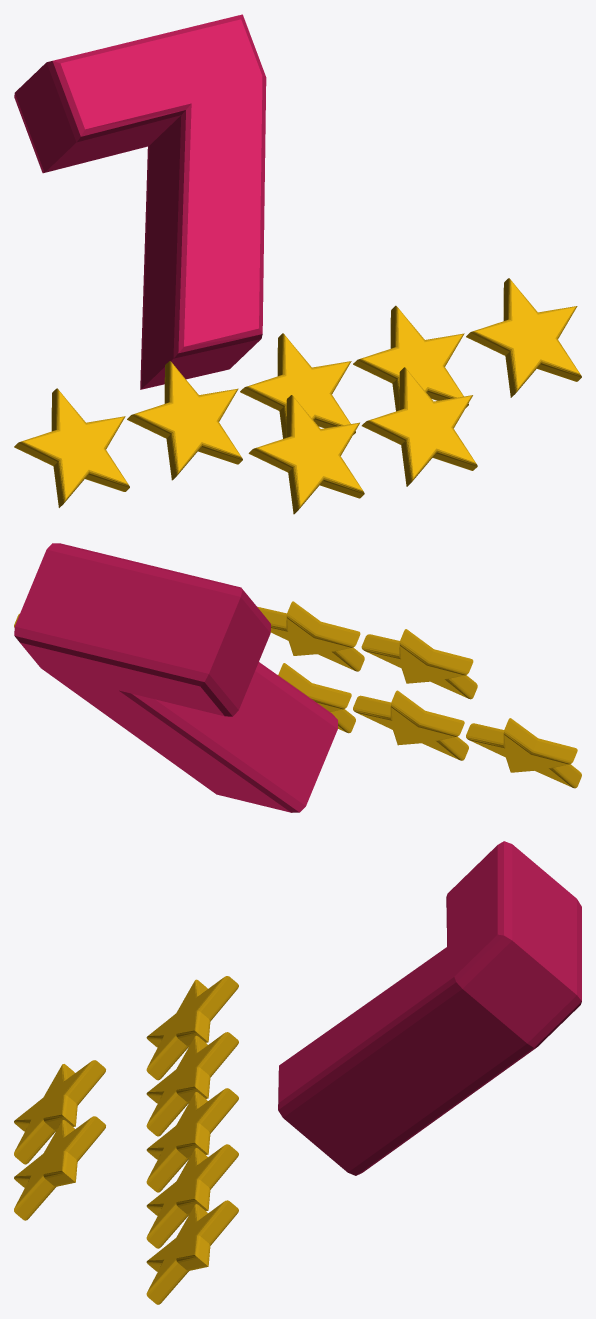
The model's file is num_7.glb.
The picture shows the model from 3 angles, top to bottom: view 1: azimuth 30°, elevation 25°; view 2: azimuth 150°, elevation 25°; view 3: azimuth 270°, elevation 25°; orthographic projection.
Bounding box in the file's own units: 2.08 × 1.01 × 1.8.
